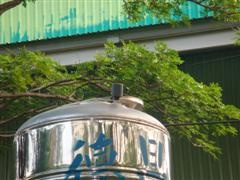water_tower: (14, 95, 170, 180)
